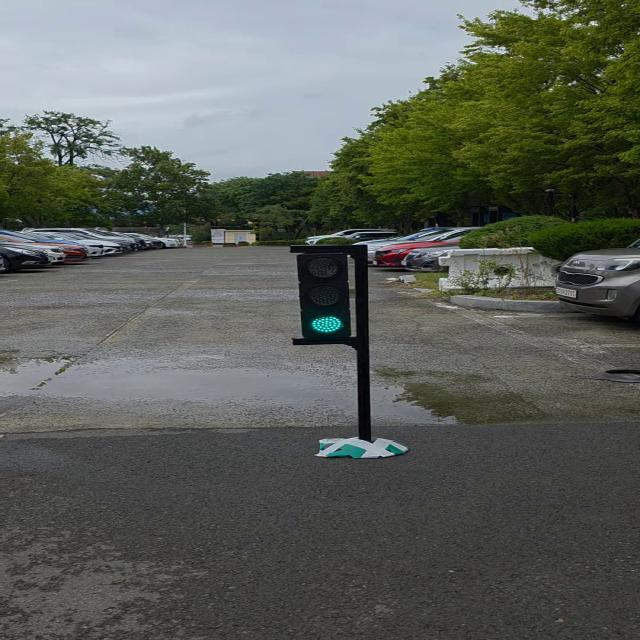green: (301, 250, 364, 343)
